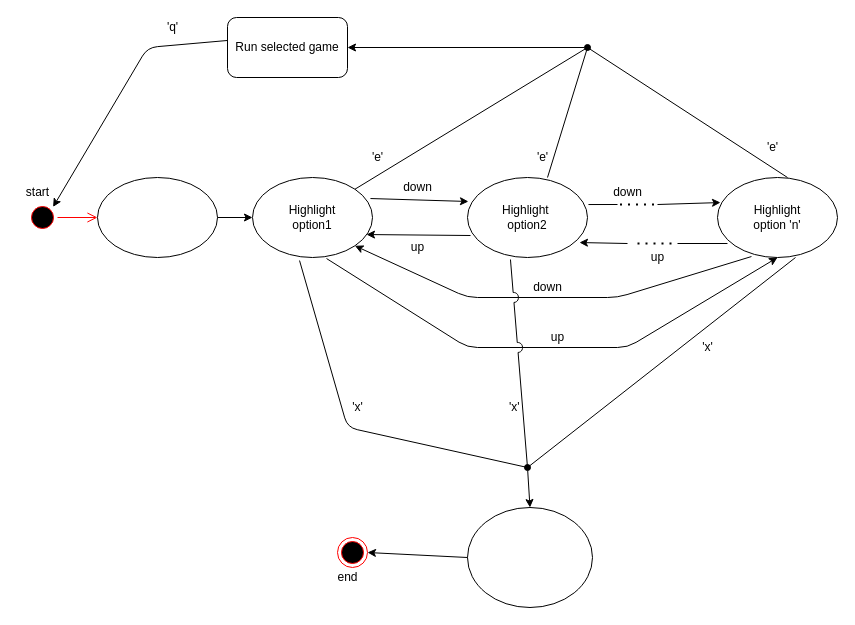
This 855x625 diagram has some shape labels left out. The centre of each missing label's shape, as x and y in pixels:
Setup menu: -Menu screen -Menu variables: point (157, 217)
Unsetup program: -Delete menu screen: point (529, 557)
